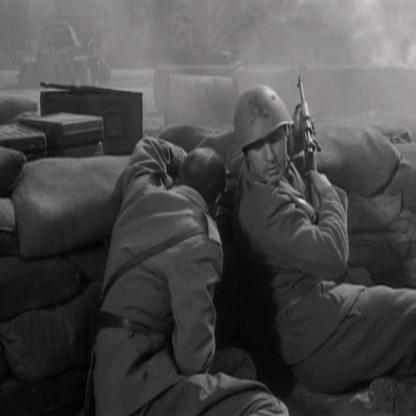Gun: (291, 68, 327, 230)
